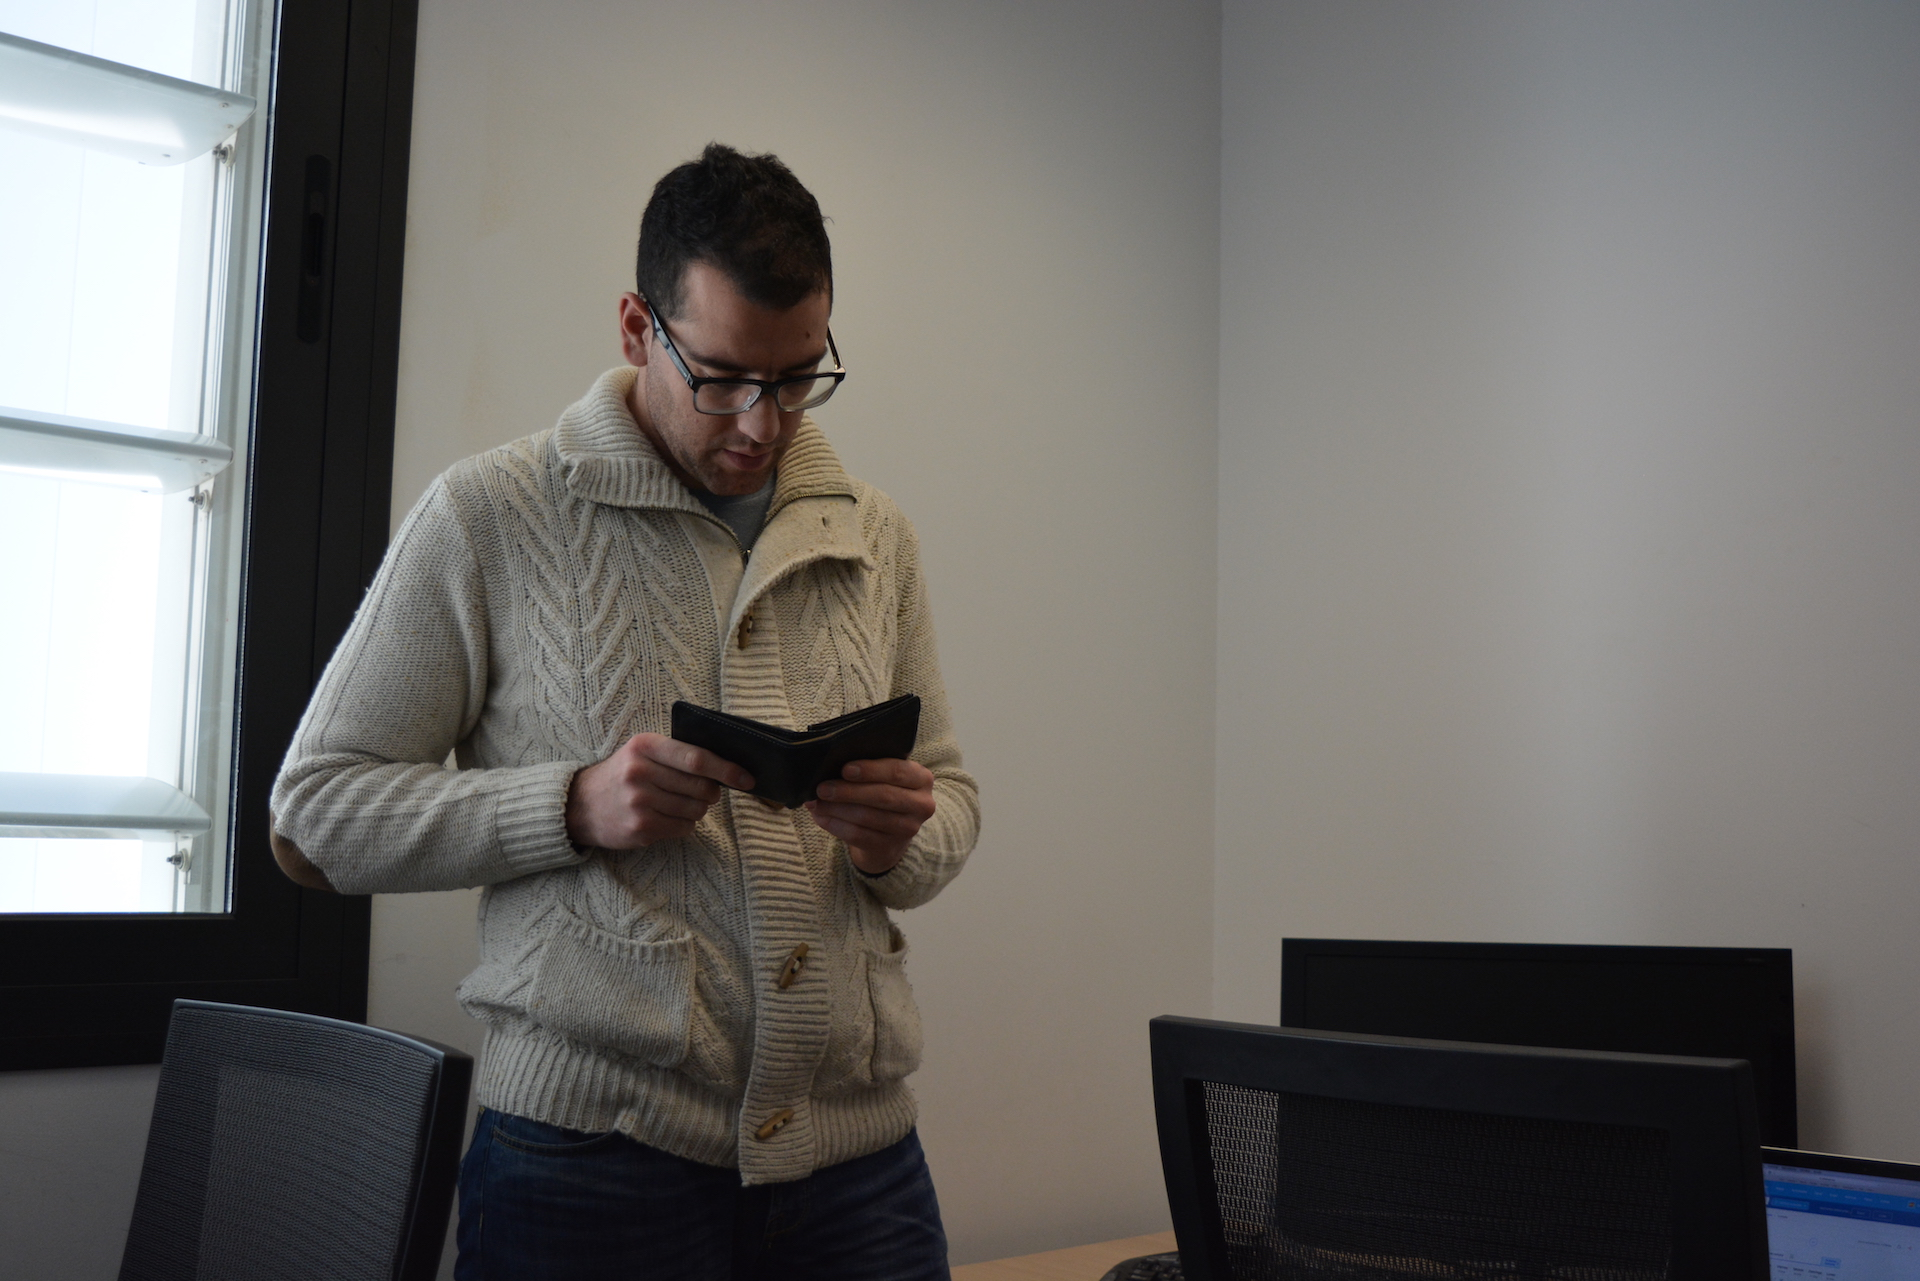monedero: (670, 692, 924, 813)
